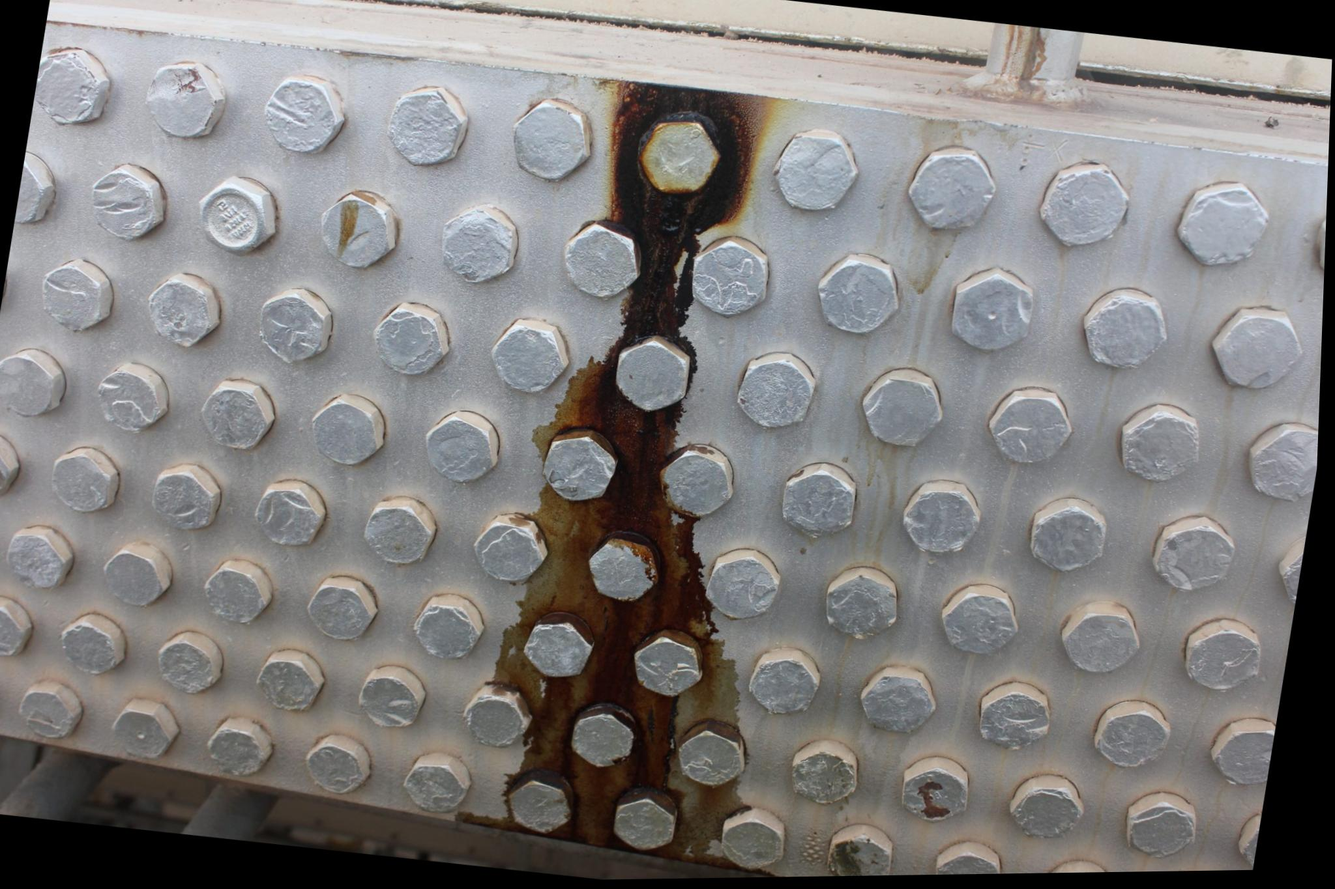leak: (513, 84, 739, 848)
